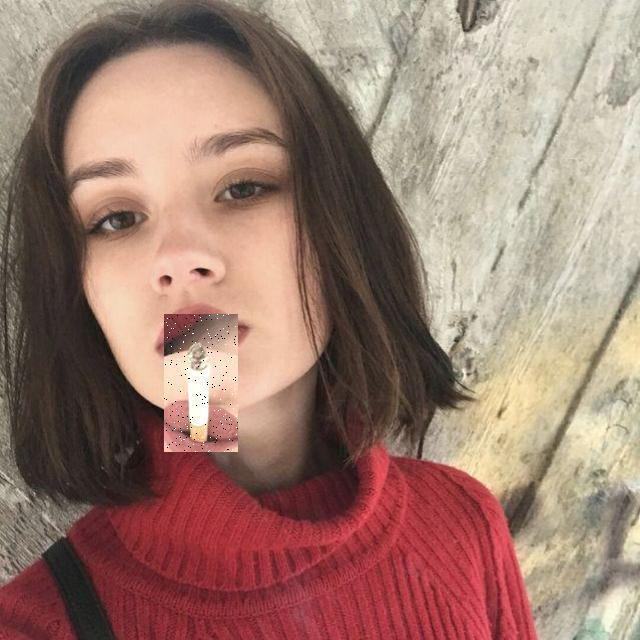smoking: (164, 314, 238, 452)
